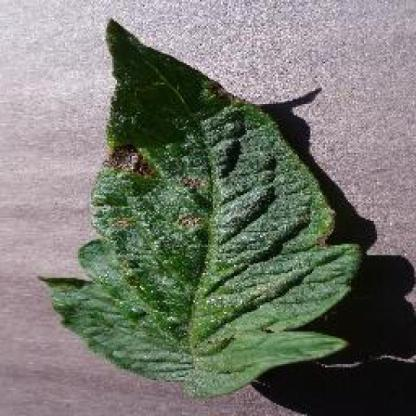Tomato_Blight: (34, 23, 360, 398)
